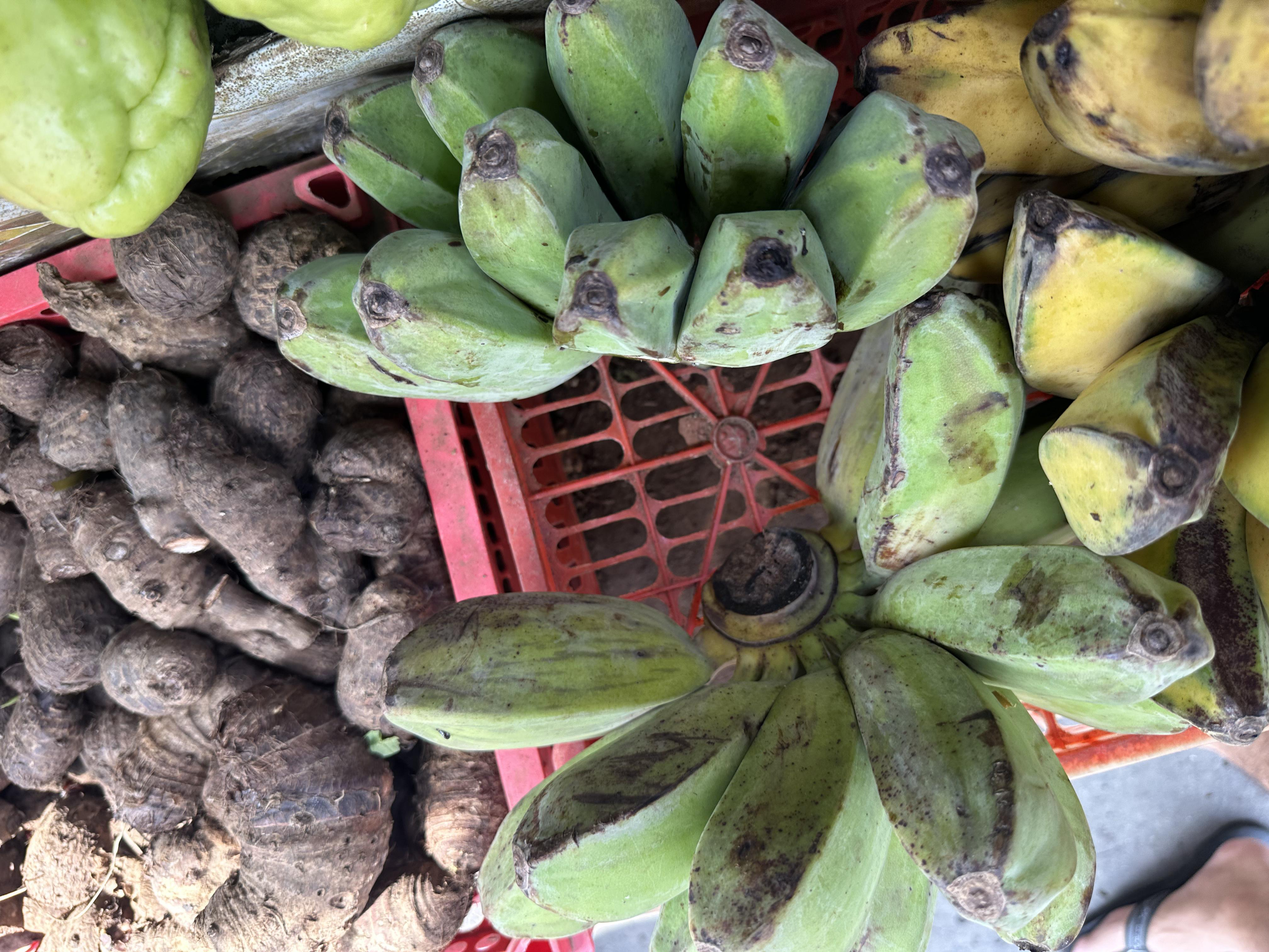ripe: (856, 0, 1269, 179)
underripe: (376, 277, 1216, 952), (275, 0, 987, 406), (1006, 187, 1269, 743)
